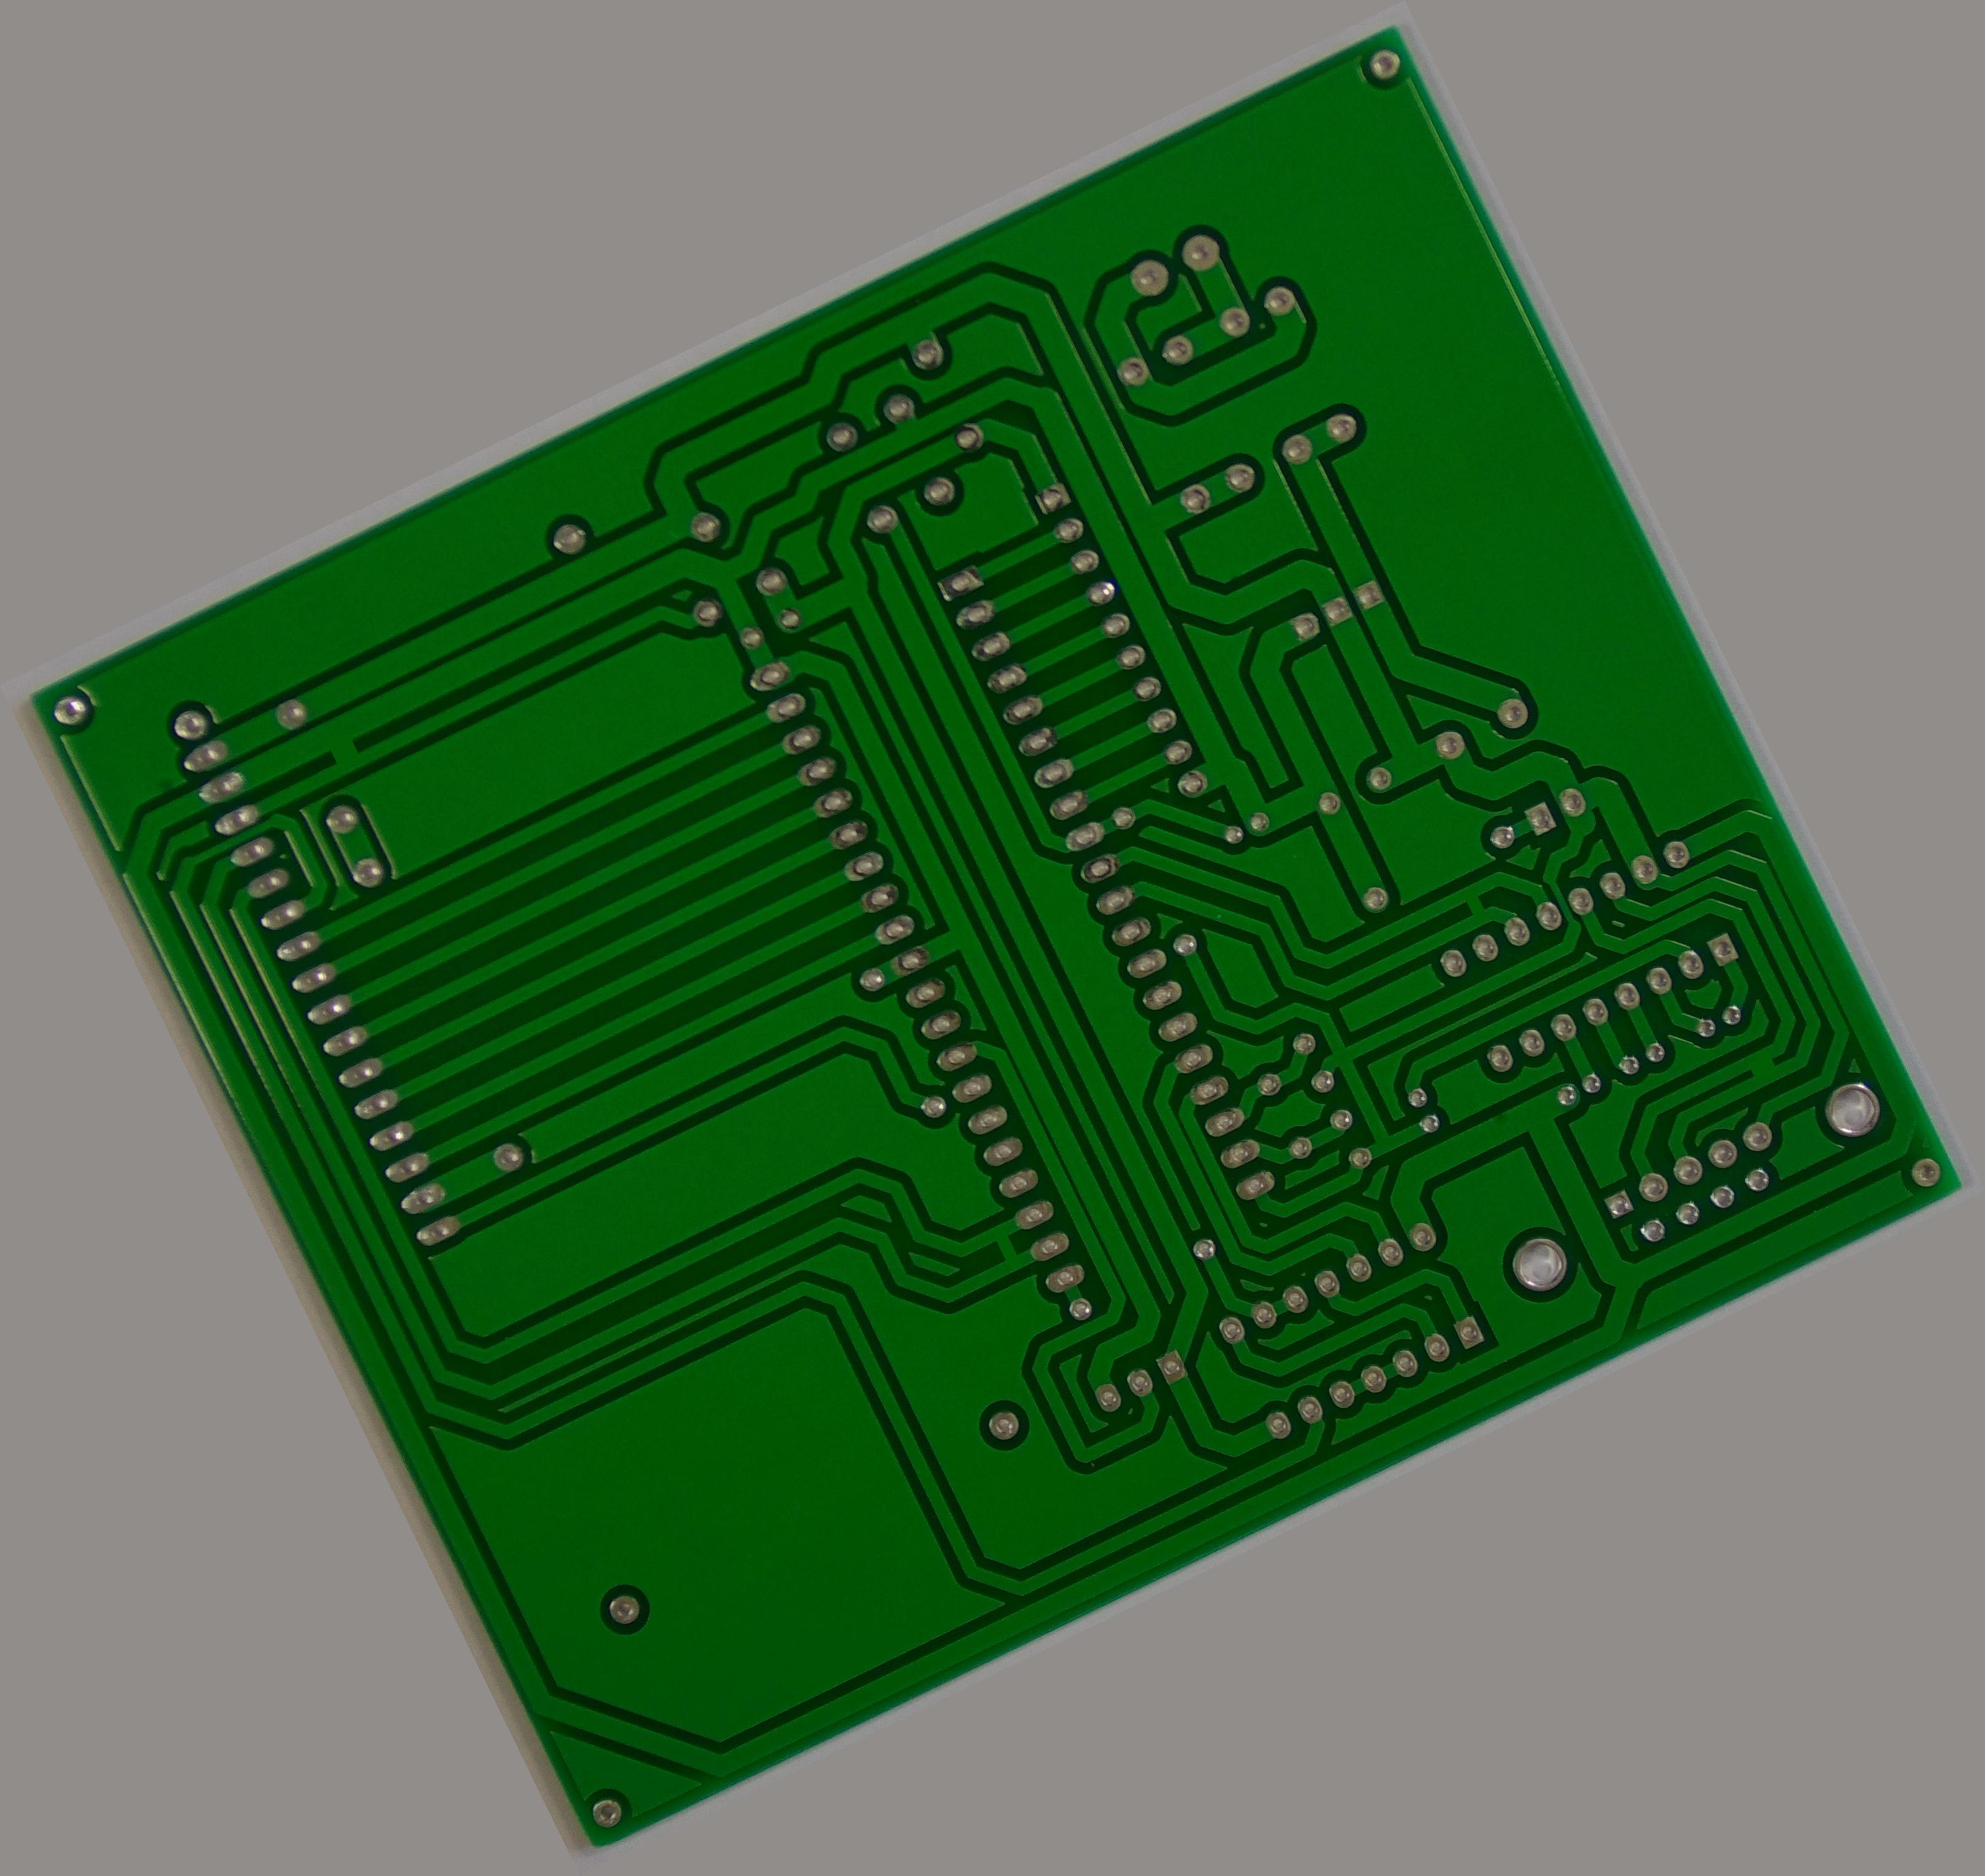short: (300, 711, 386, 792), (1724, 1031, 1805, 1102), (966, 1211, 1040, 1287), (1442, 871, 1509, 934)
